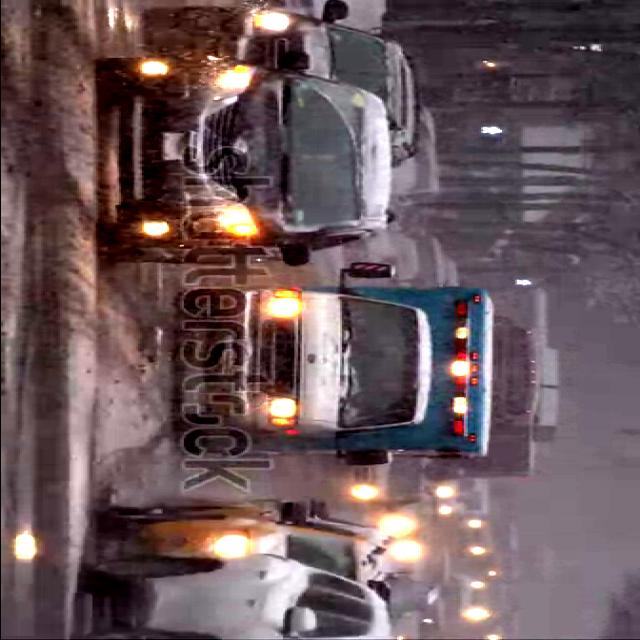ambulance: (194, 261, 496, 466)
